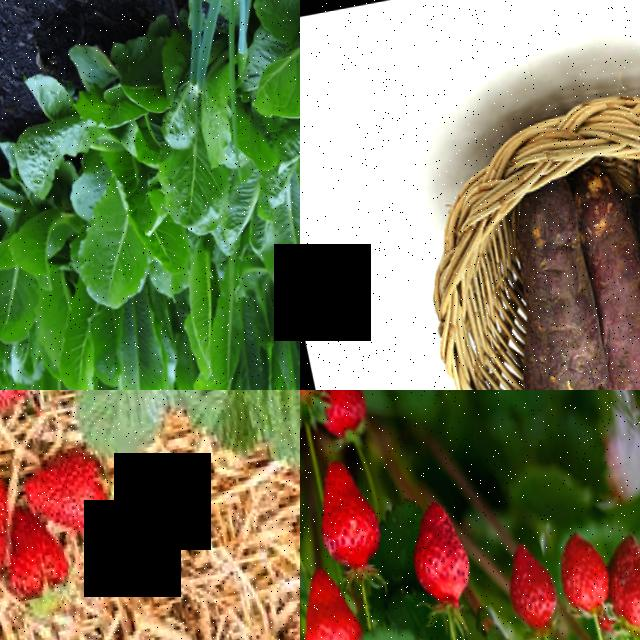spinach: (59, 186, 147, 322), (144, 133, 237, 244), (158, 239, 224, 387), (234, 2, 300, 131), (43, 322, 93, 390), (0, 265, 39, 349), (279, 148, 300, 279)
strawberry: (301, 460, 379, 570), (394, 501, 469, 612), (29, 448, 107, 546), (489, 546, 554, 640), (543, 535, 605, 625), (0, 530, 62, 616), (591, 537, 640, 640), (300, 568, 347, 640), (316, 390, 367, 446)
sweet potato: (480, 202, 625, 390), (563, 171, 640, 390)
